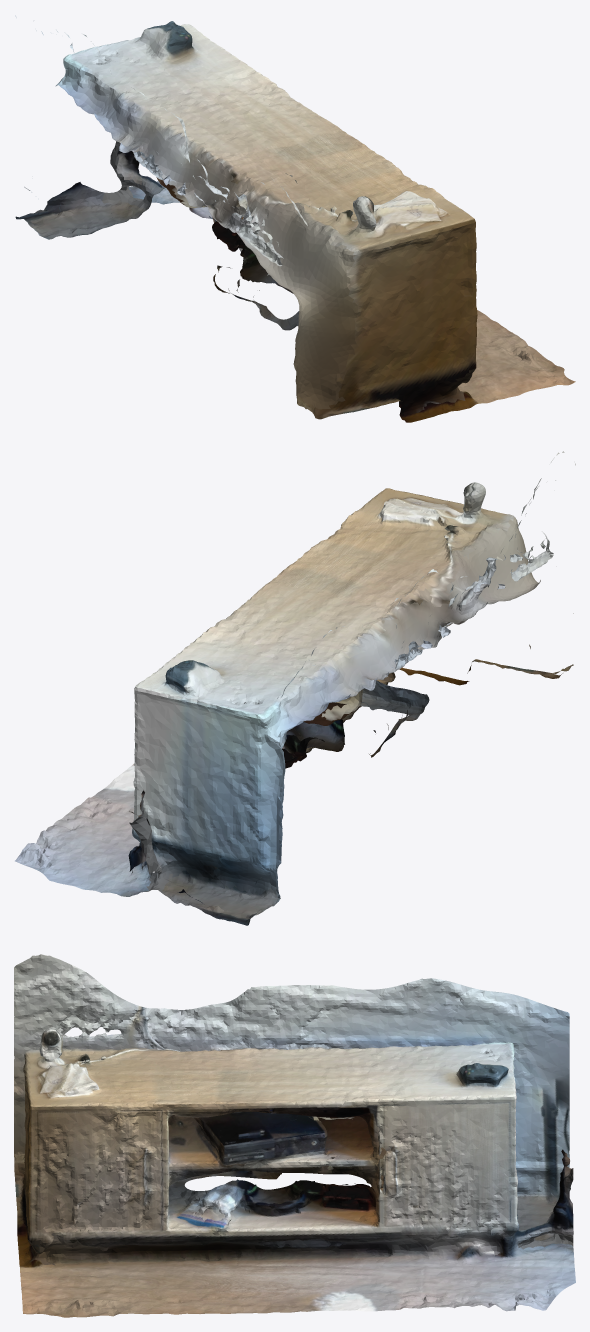
File: background_1.glb
3 views of the same model, one above another, from view 1: azimuth 30°, elevation 25°; view 2: azimuth 150°, elevation 25°; view 3: azimuth 270°, elevation 25° (orthographic). The views are drawn at different scales.
Size of the model in its own units: 0.9151 by 0.8234 by 1.73.
1 material, 1 textured.
